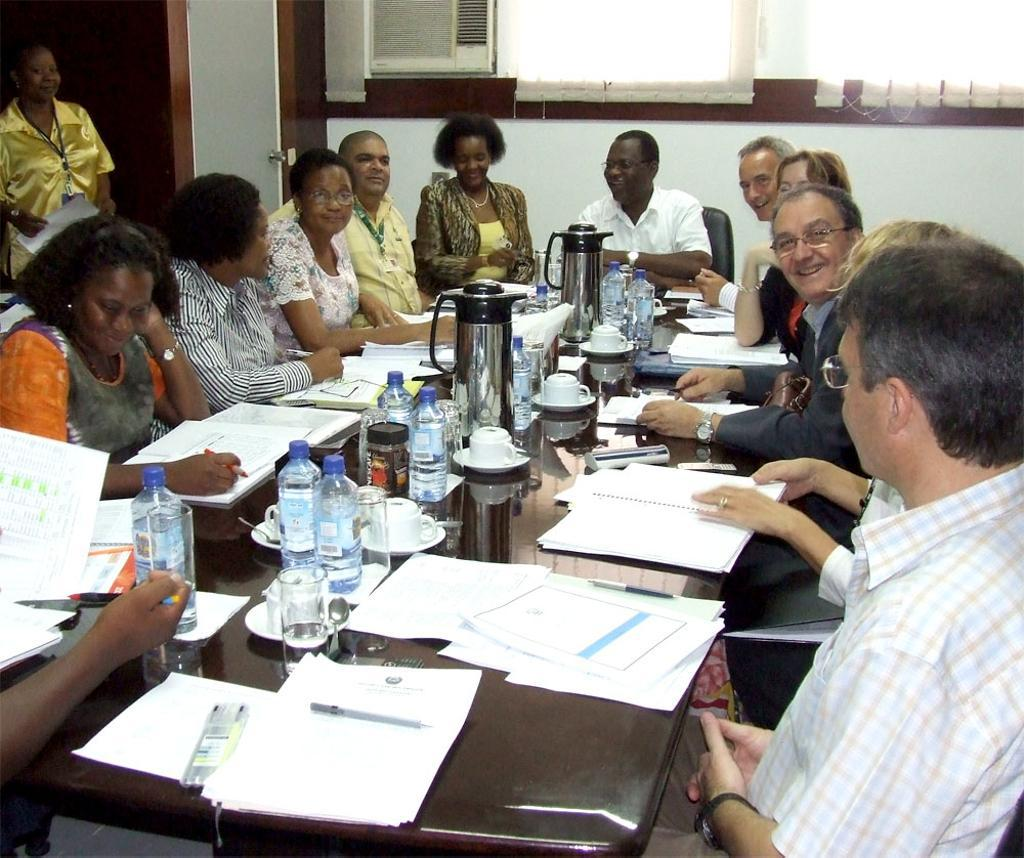face: (840, 324, 911, 478), (76, 270, 151, 358), (774, 211, 851, 296), (305, 167, 354, 234), (740, 154, 781, 222), (233, 206, 269, 280), (605, 143, 650, 201), (781, 165, 823, 222), (349, 143, 389, 193), (20, 57, 60, 100), (455, 139, 490, 188)
